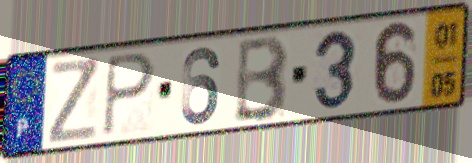3: (310, 27, 363, 113)
6: (371, 18, 419, 109), (179, 45, 222, 128)
B: (231, 32, 291, 125)
P: (101, 51, 158, 140)
Z: (47, 54, 101, 147)
